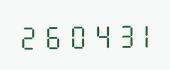four: (84, 20, 105, 49)
one: (128, 19, 149, 48)
six: (39, 20, 60, 50)
three: (106, 19, 127, 49)
two: (17, 21, 38, 50)
zero: (62, 20, 83, 50)
